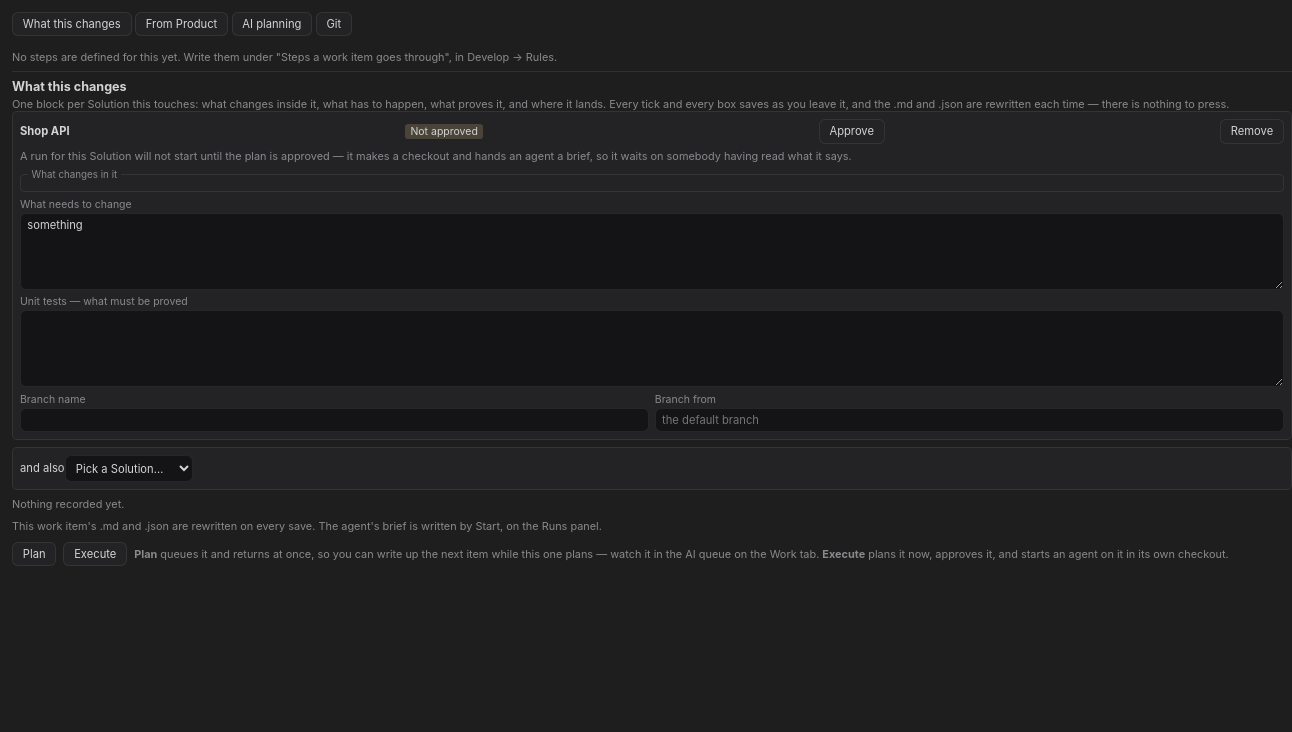
Scenario: WorkItemBuildPlan › treats a refusal as a question, not a failure
This screenshot has width=1292, height=732.
Click the button with aria-label "Execute Add checkout".
click(95, 554)  # box [63,542,127,566]
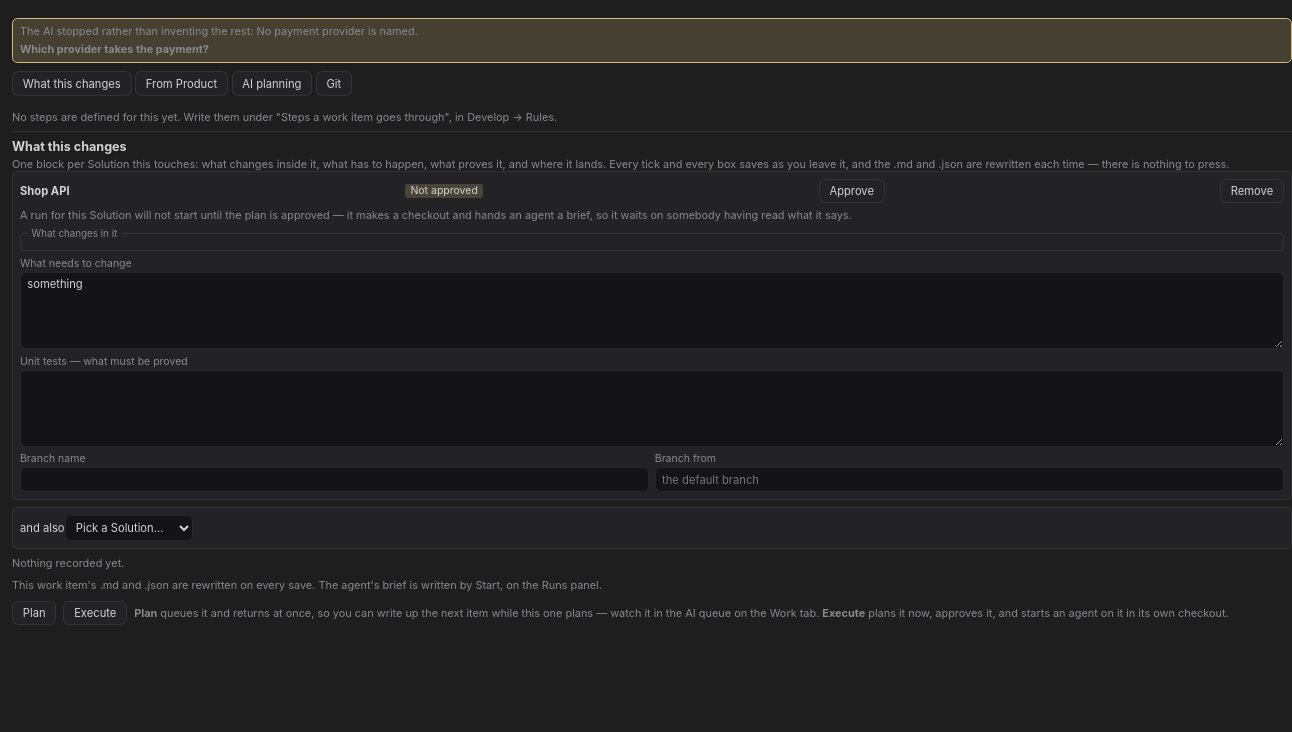
Result: the text "stopped rather than inventing the rest" is shown at [20,24,418,38]
Result: the text "Which provider takes the payment?" is shown at [20,42,209,56]
